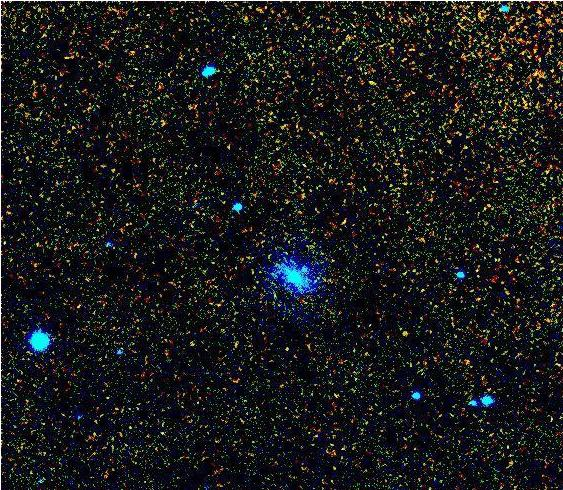star: (394, 314, 424, 344)
